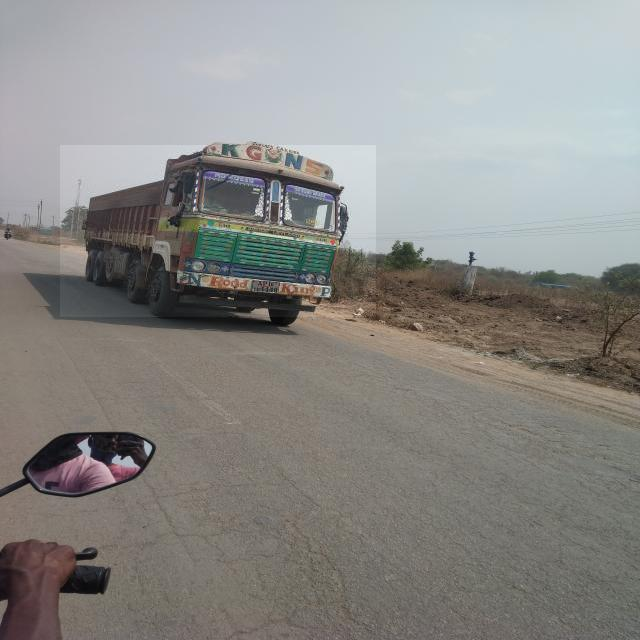Truck: (61, 146, 377, 318)
